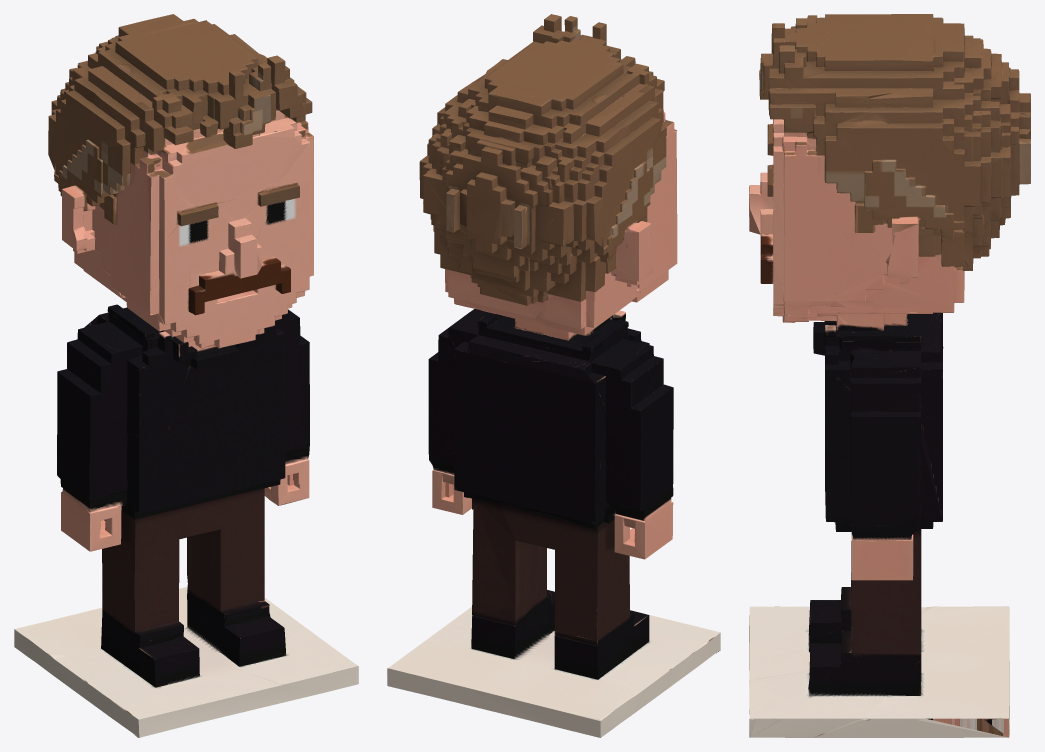
File: antoine.glb
3 renders of one model, left to right at view 1: azimuth 30°, elevation 25°; view 2: azimuth 150°, elevation 25°; view 3: azimuth 270°, elevation 25°, orthographic. The views are drawn at different scales.
Size of the model in its own units: 0.6997 by 1.9 by 0.7396.
1 material, 1 textured.
